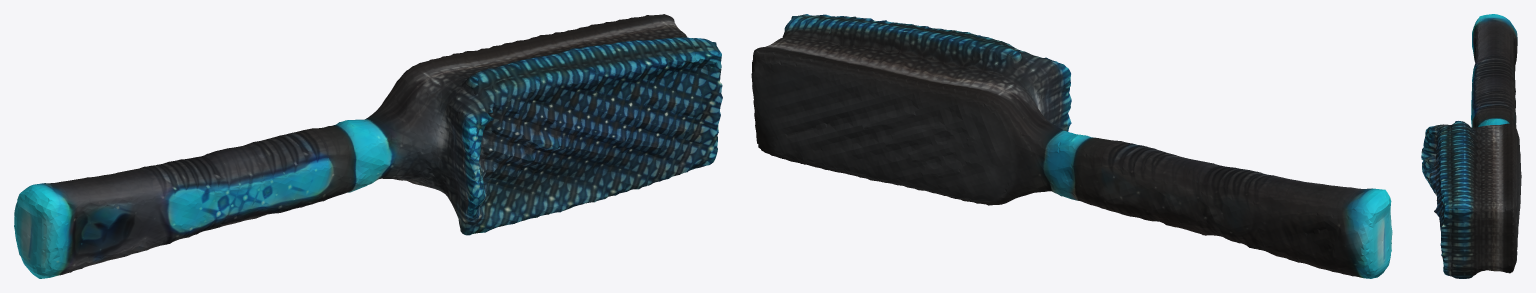
Rendered from hairbrush.obj.
3 views of the same model, side by side, from view 1: azimuth 30°, elevation 25°; view 2: azimuth 150°, elevation 25°; view 3: azimuth 270°, elevation 25° (orthographic). The views are drawn at different scales.
Bounding box in the file's own units: 0.2336 × 0.0505 × 0.0487.
Materials: 1 (1 with a texture image).
